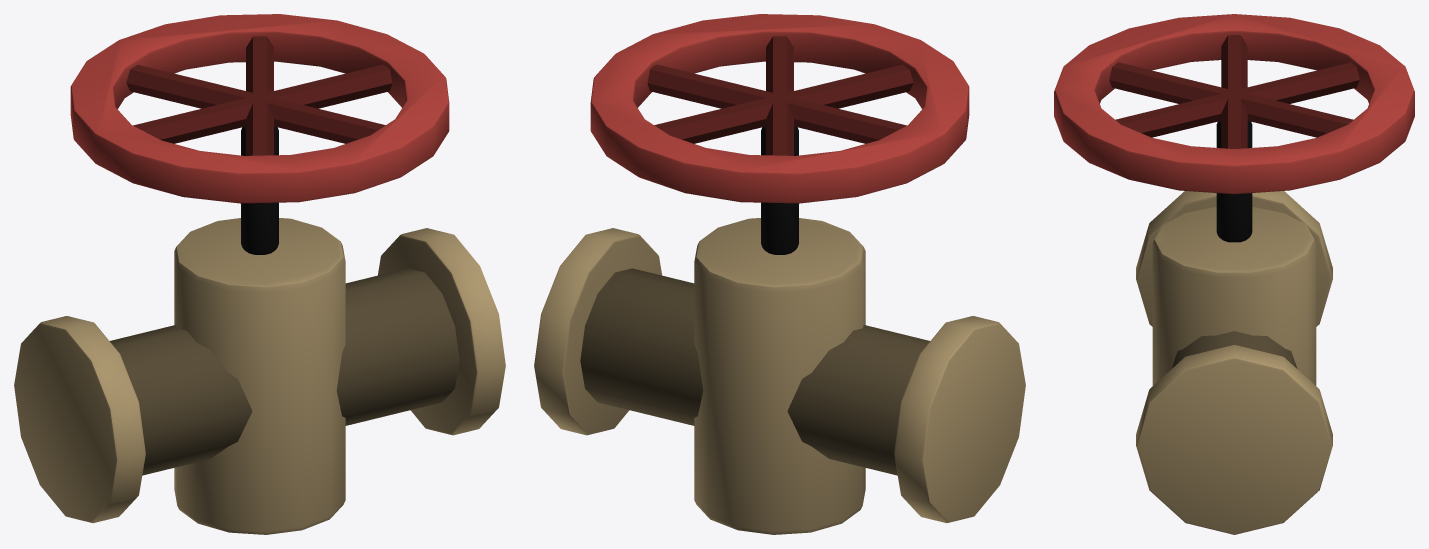
Rendered from valve.glb.
3 renders of one model, left to right at view 1: azimuth 30°, elevation 25°; view 2: azimuth 150°, elevation 25°; view 3: azimuth 270°, elevation 25°, orthographic. The views are drawn at different scales.
Parts seen in each view (by area): view 1: boat_brass, boat_paint_red, boat_iron; view 2: boat_brass, boat_paint_red, boat_iron; view 3: boat_brass, boat_paint_red, boat_iron.
Part boxes in pixels (x1=…): boat_brass: x1=14, y1=218, x2=505, y2=534; boat_paint_red: x1=70, y1=14, x2=449, y2=203; boat_iron: x1=241, y1=126, x2=278, y2=254; boat_brass: x1=534, y1=218, x2=1025, y2=534; boat_paint_red: x1=590, y1=14, x2=969, y2=203; boat_iron: x1=761, y1=126, x2=798, y2=254; boat_brass: x1=1136, y1=191, x2=1332, y2=534; boat_paint_red: x1=1054, y1=14, x2=1414, y2=194; boat_iron: x1=1216, y1=121, x2=1252, y2=242.
Size of the model in its own units: 0.26 by 0.26 by 0.22.
3 materials, 1 textured.
